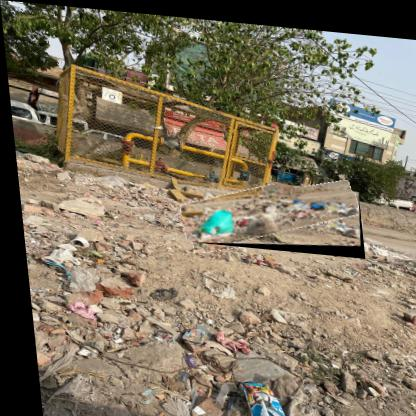Garbage: (175, 172, 362, 254)
